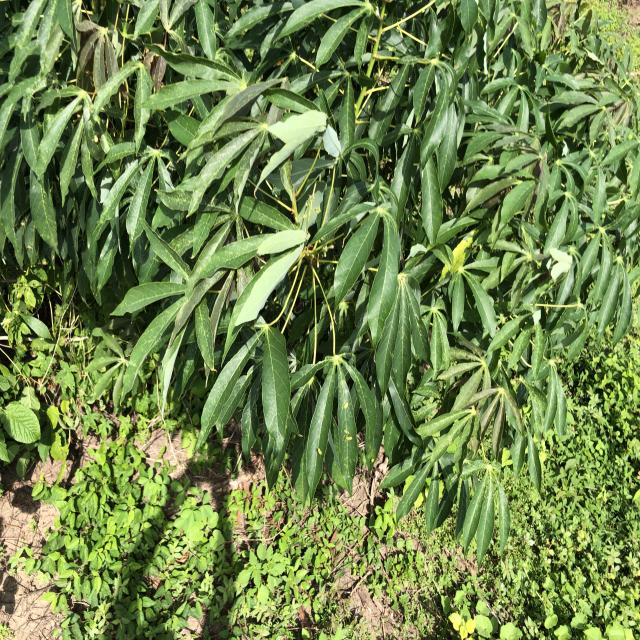Maleza: (182, 551, 627, 640), (44, 443, 221, 620), (554, 439, 640, 640), (9, 328, 94, 527)
Mosca: (337, 420, 357, 447), (311, 436, 328, 462), (461, 480, 475, 505), (456, 448, 474, 467), (88, 128, 102, 148), (556, 177, 568, 193)
